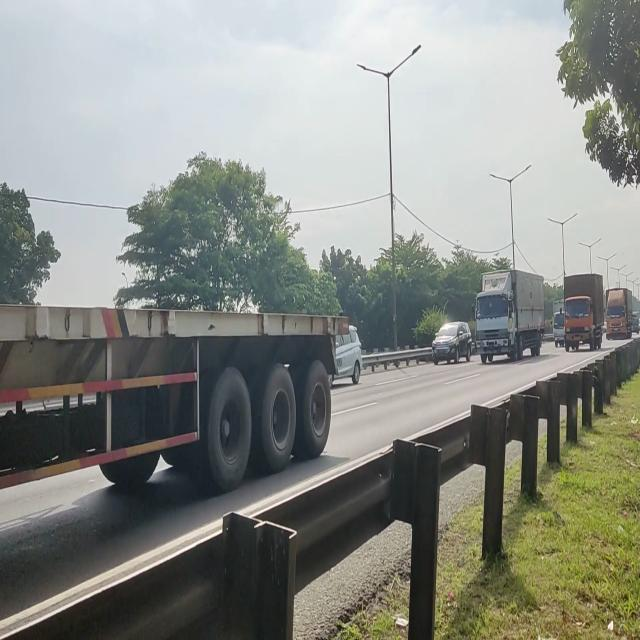Golongan I: (432, 315, 473, 371)
